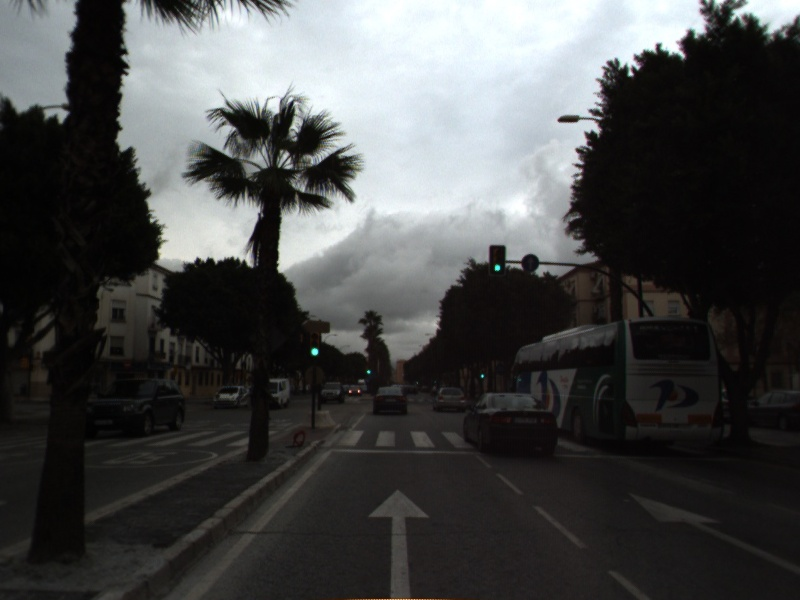STRAIGHT: (624, 489, 800, 572), (364, 484, 434, 600)
